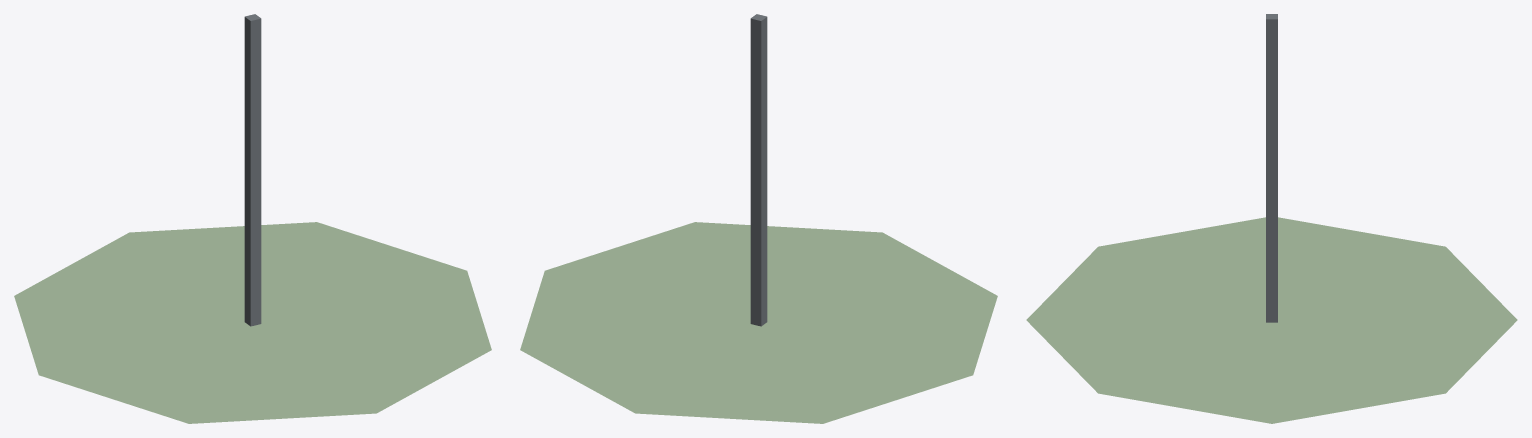
Rendered from golf-area.glb.
The picture shows the model from 3 angles, left to right: view 1: azimuth 30°, elevation 25°; view 2: azimuth 150°, elevation 25°; view 3: azimuth 270°, elevation 25°; orthographic projection.
Parts seen in each view (by area): view 1: spatial-root; view 2: spatial-root; view 3: spatial-root.
Part boxes in pixels (<box>): spatial-root: <box>14,14,491,423</box>; spatial-root: <box>520,14,997,423</box>; spatial-root: <box>1026,14,1517,423</box>.
Bounding box in the file's own units: 3.2 × 2.2 × 3.2.
